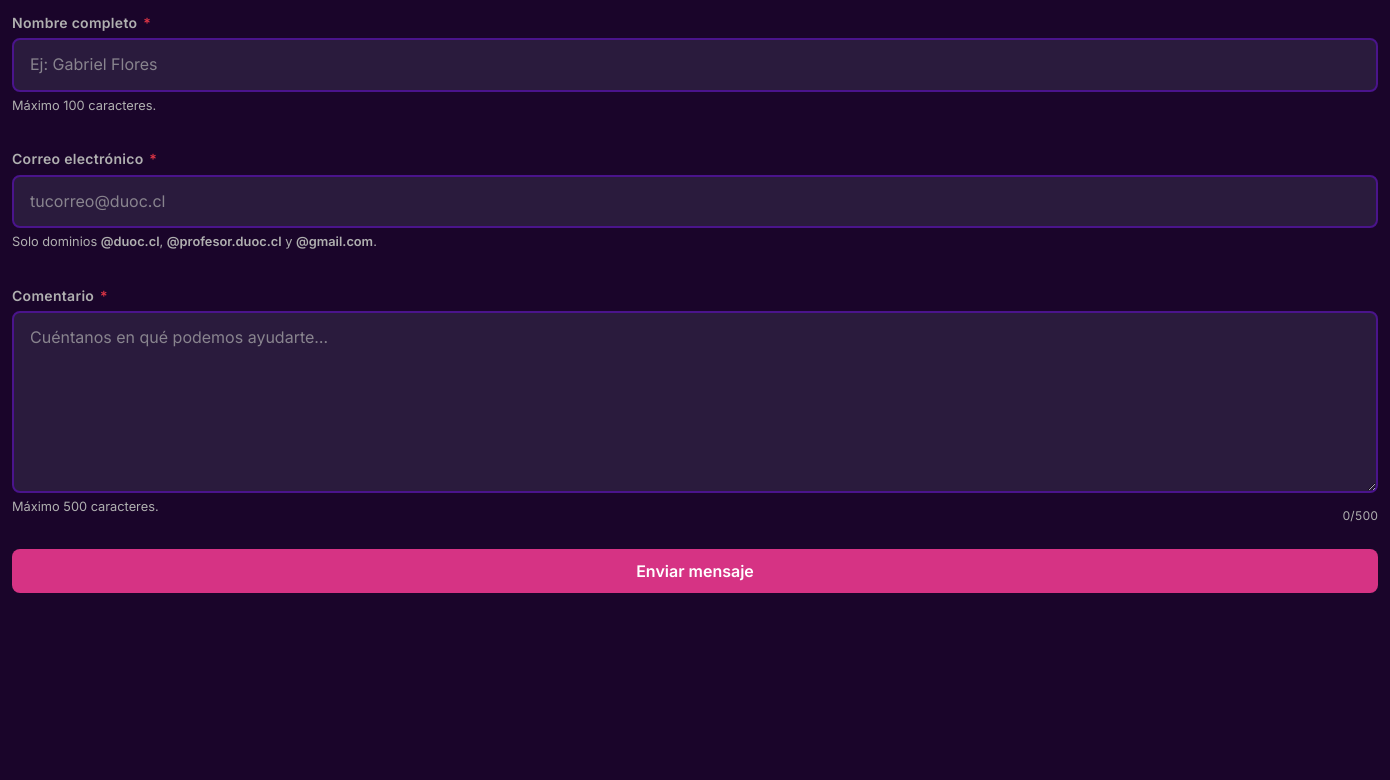
<FormularioContacto /> › RENDERIZADO CONDICIONAL: con campos vacíos muestra errores y no guarda nada
Click the button "Enviar mensaje". click: click(695, 571)
box: [12,549,1378,593]
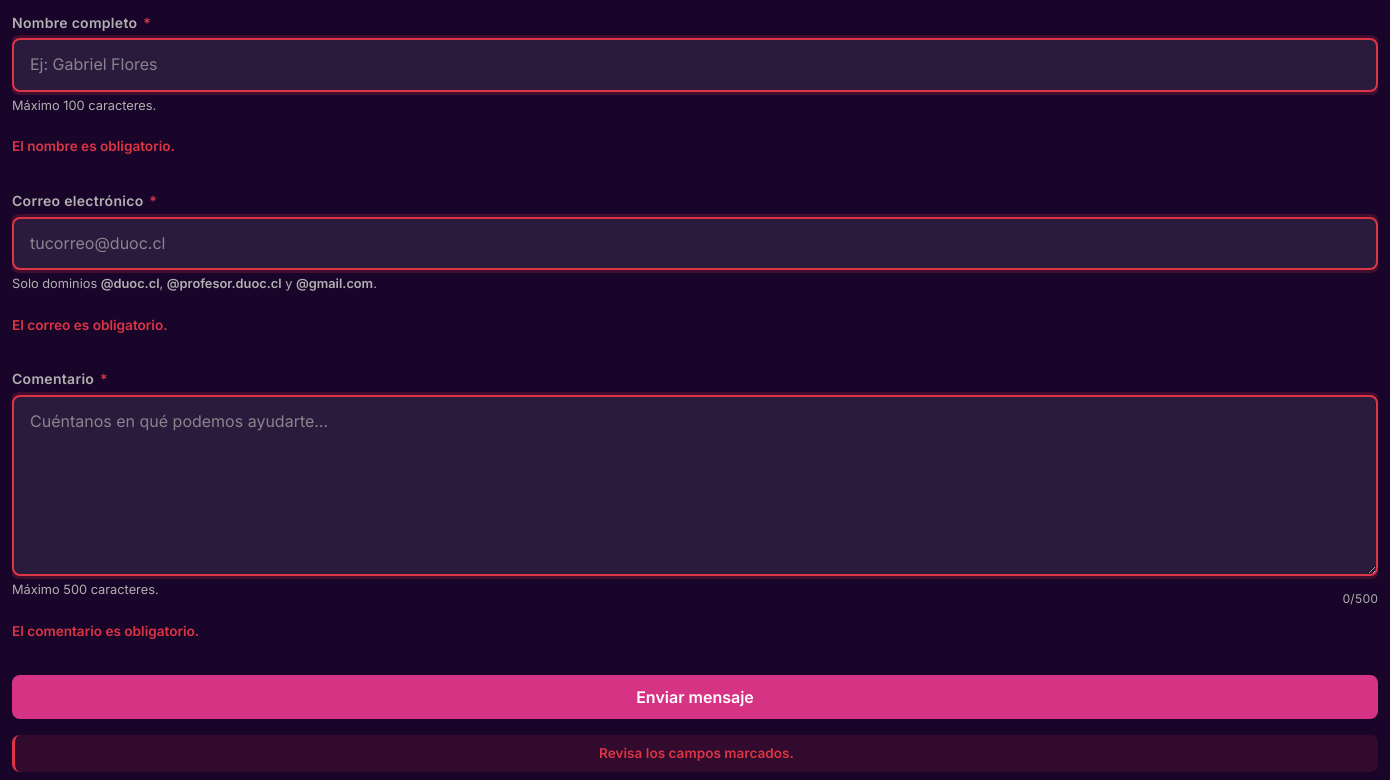
Now the message "El nombre es obligatorio." is shown, box [12,138,175,154]
Now the text "Revisa los campos marcados." is shown, box [12,735,1378,772]
